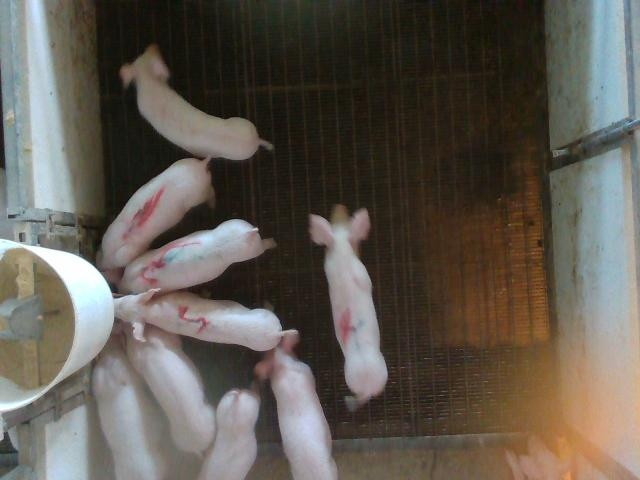pig-1: (96, 158, 215, 283)
pig-3: (118, 219, 276, 294)
pig-4: (309, 205, 388, 410)
pig-5: (114, 289, 298, 351)
